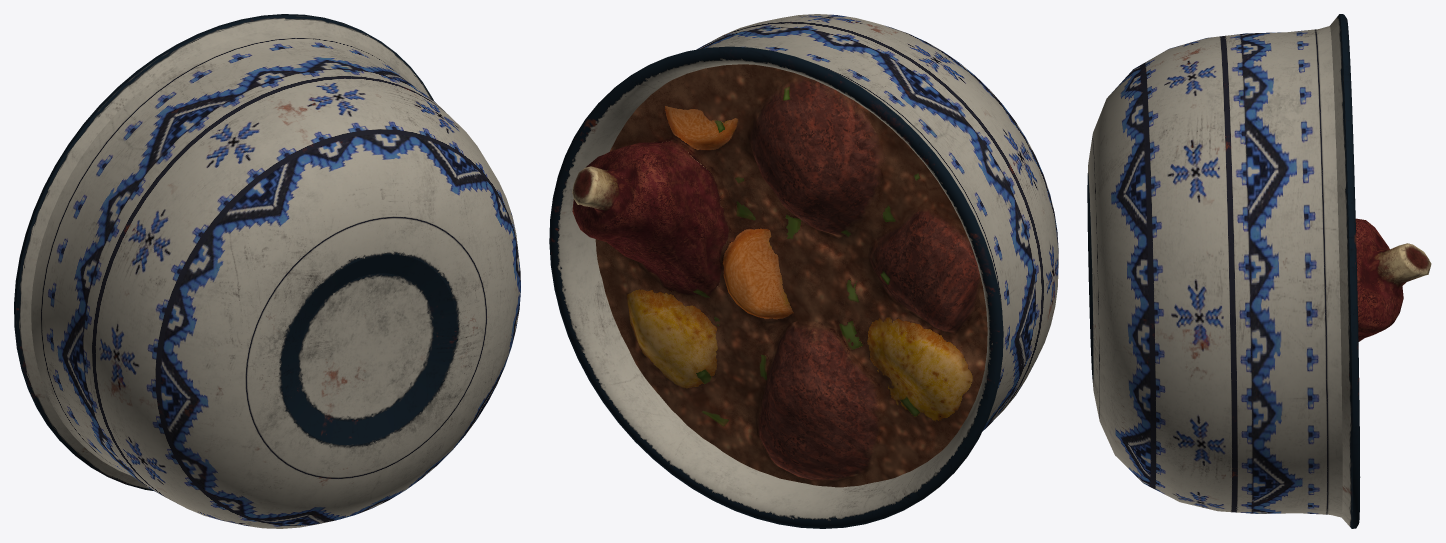
The model's file is Bowl2.fbx.
3 views of the same model, side by side, from view 1: azimuth 30°, elevation 25°; view 2: azimuth 150°, elevation 25°; view 3: azimuth 270°, elevation 25° (orthographic).
Visible parts, largest first — view 1: PorkStew; view 2: PorkStew; view 3: PorkStew.
Part boxes in pixels (x1,y1,x2,y2): PorkStew: (14, 14, 520, 528); PorkStew: (549, 14, 1058, 528); PorkStew: (1087, 14, 1431, 528).
Size of the model in its own units: 54.7 by 36.54 by 54.72.
2 materials, 2 textured.
